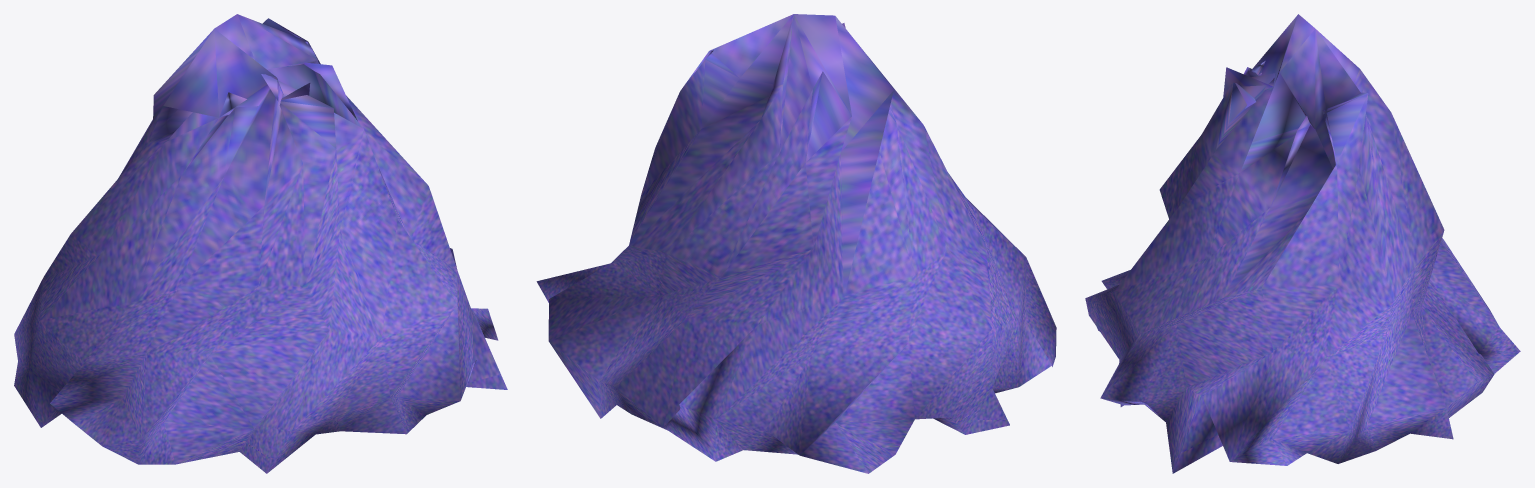
File: Blue Topping.obj
3 views of the same model, side by side, from view 1: azimuth 30°, elevation 25°; view 2: azimuth 150°, elevation 25°; view 3: azimuth 270°, elevation 25° (orthographic). The views are drawn at different scales.
Parts seen in each view (by area): view 1: blue_dust; view 2: blue_dust; view 3: blue_dust.
Part boxes in pixels (bbox=[...]): blue_dust: bbox=[14, 14, 507, 473]; blue_dust: bbox=[536, 14, 1056, 473]; blue_dust: bbox=[1085, 14, 1520, 473].
Bounding box in the file's own units: 0.1075 × 0.0861 × 0.0953.
